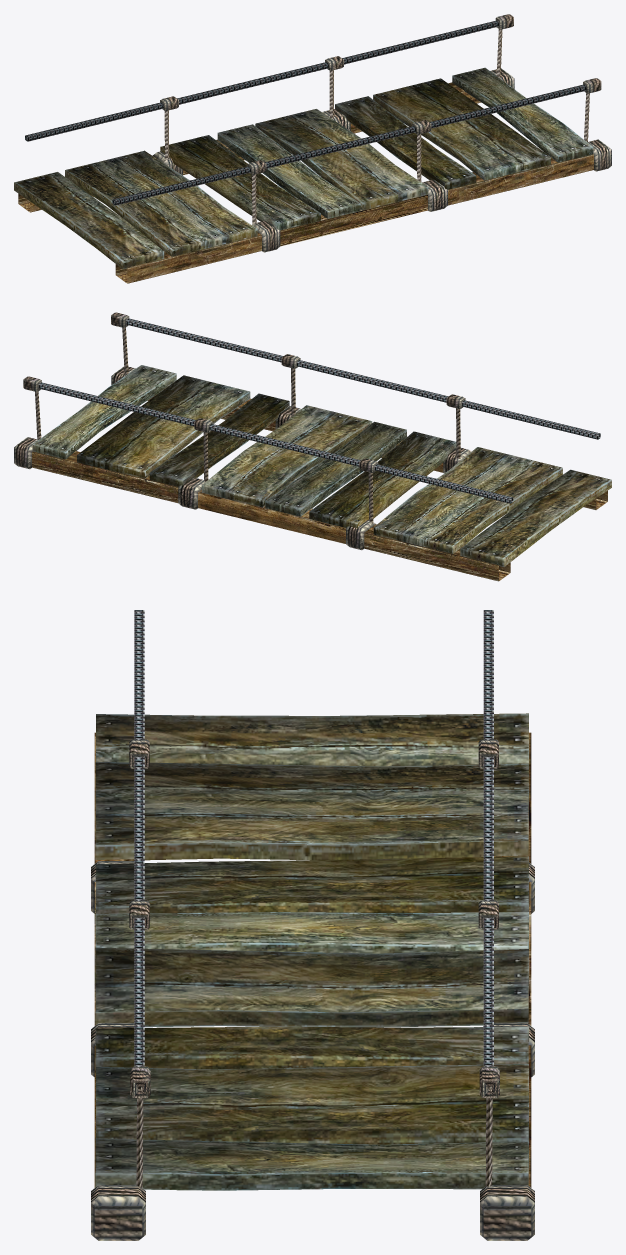
The model's file is brige1_2.glb.
The picture shows the model from 3 angles, top to bottom: view 1: azimuth 30°, elevation 25°; view 2: azimuth 150°, elevation 25°; view 3: azimuth 270°, elevation 25°; orthographic projection. The views are drawn at different scales.
Visible parts, largest first — view 1: brige1_2; view 2: brige1_2; view 3: brige1_2.
Boxes of the visible parts, x1,y1,x2,y2 form: brige1_2: (14, 14, 611, 283); brige1_2: (14, 312, 611, 581); brige1_2: (91, 610, 534, 1240).
Size of the model in its own units: 12.52 by 1.99 by 4.92.
4 materials, 4 textured.
